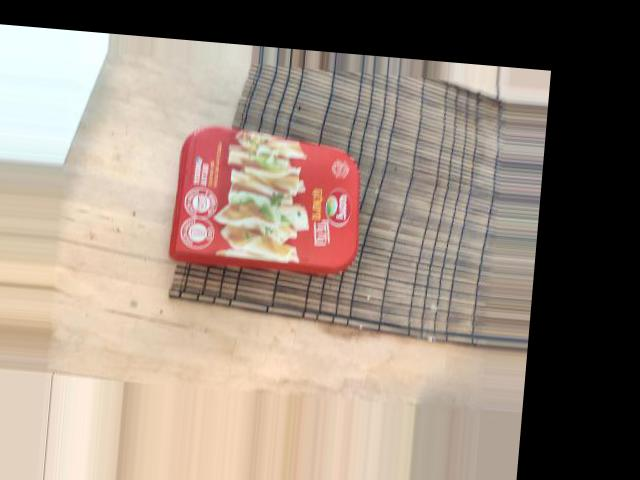cheese: (298, 73, 438, 275)
